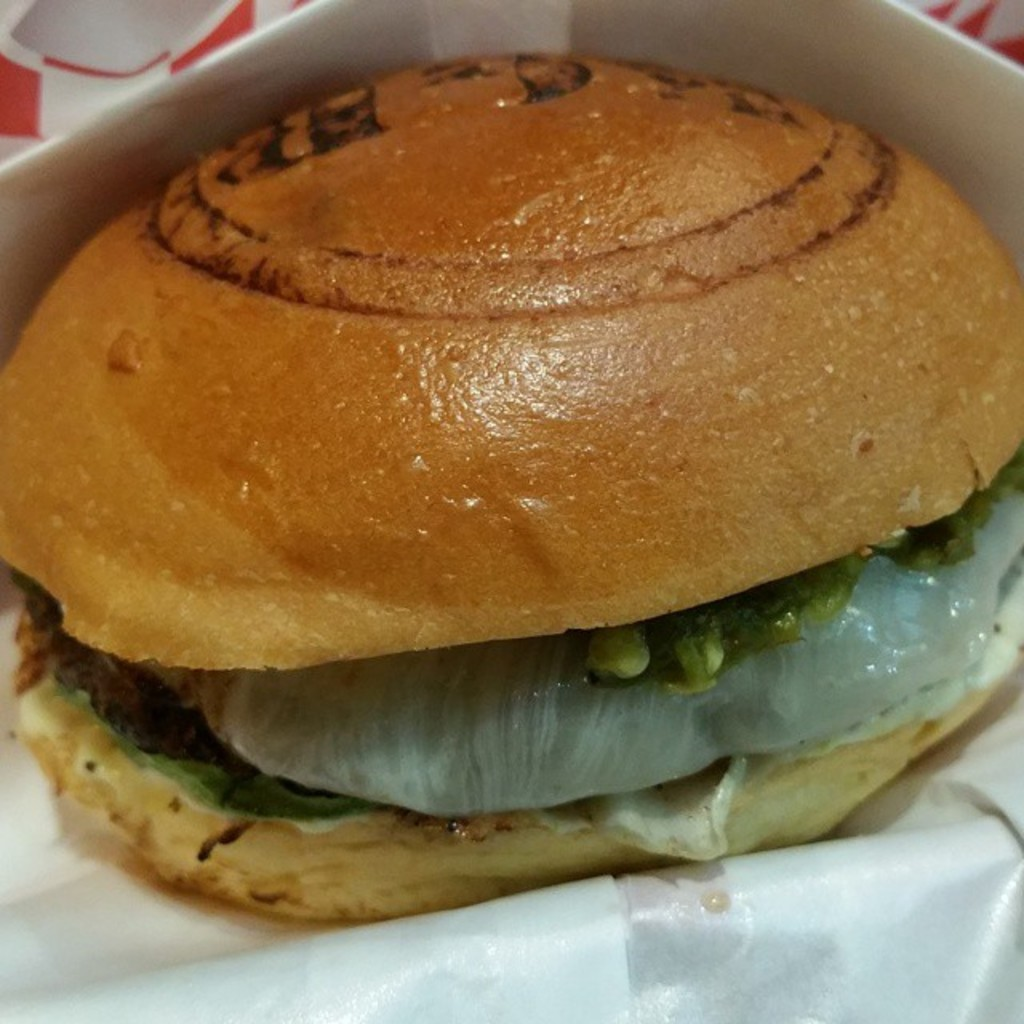Hamburger: (0, 51, 1022, 928)
